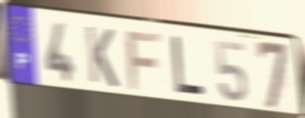4: (44, 20, 76, 84)
5: (213, 38, 249, 104)
7: (254, 39, 291, 112)
F: (124, 30, 164, 92)
K: (84, 24, 120, 91)
L: (170, 33, 206, 99)
